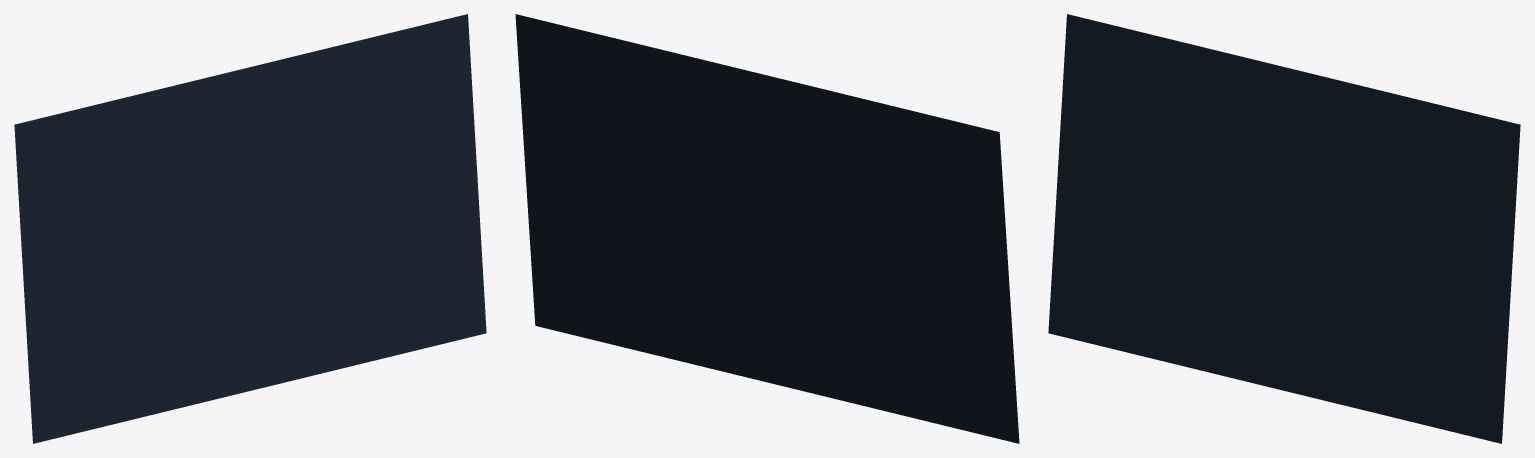
Rendered from laptop_scrn.glb.
3 renders of one model, left to right at view 1: azimuth 30°, elevation 25°; view 2: azimuth 150°, elevation 25°; view 3: azimuth 330°, elevation 25°, orthographic. The views are drawn at different scales.
Parts seen in each view (by area): view 1: Notebook_Scrn; view 2: Notebook_Scrn; view 3: Notebook_Scrn.
Part boxes in pixels (x1,y1,x2,y2): Notebook_Scrn: [14, 14, 486, 443]; Notebook_Scrn: [515, 14, 1019, 443]; Notebook_Scrn: [1048, 14, 1520, 443].
Size of the model in its own units: 10.33 by 6.66 by 0.7332.
